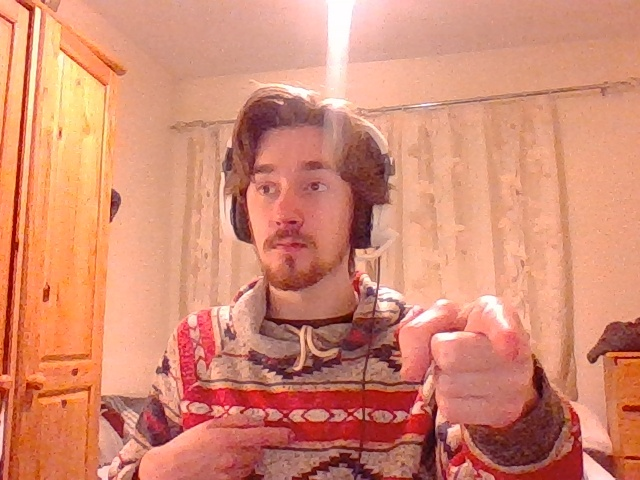you: (398, 296, 533, 421)
